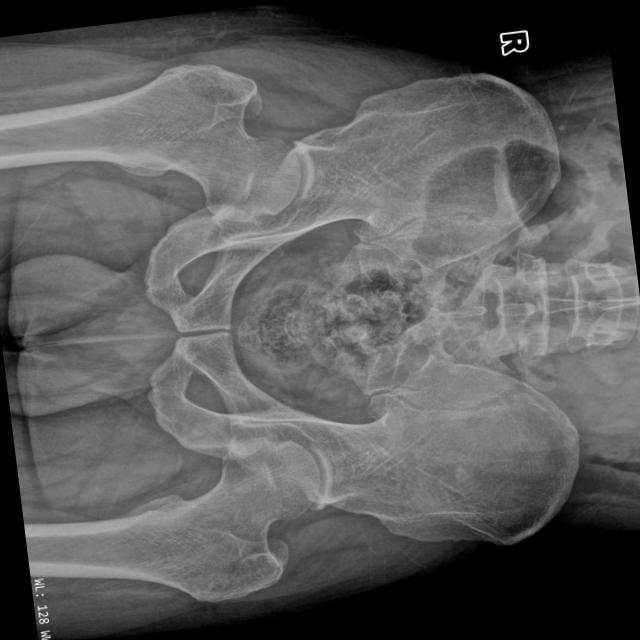normal-left: (23, 437, 318, 602)
normal-right: (0, 64, 299, 221)
